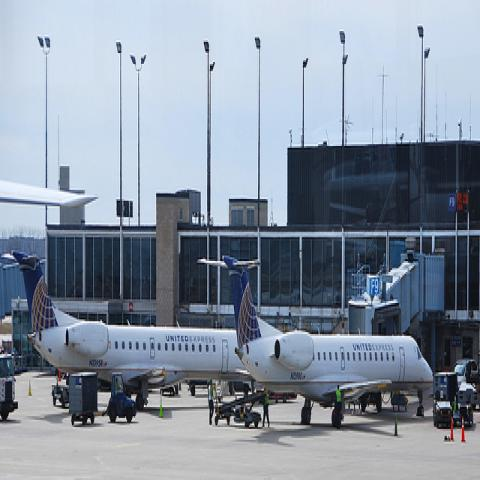car: (452, 358, 479, 389), (434, 390, 452, 428), (458, 380, 479, 410), (453, 402, 474, 426)
truck: (97, 373, 136, 423), (69, 373, 98, 427)
